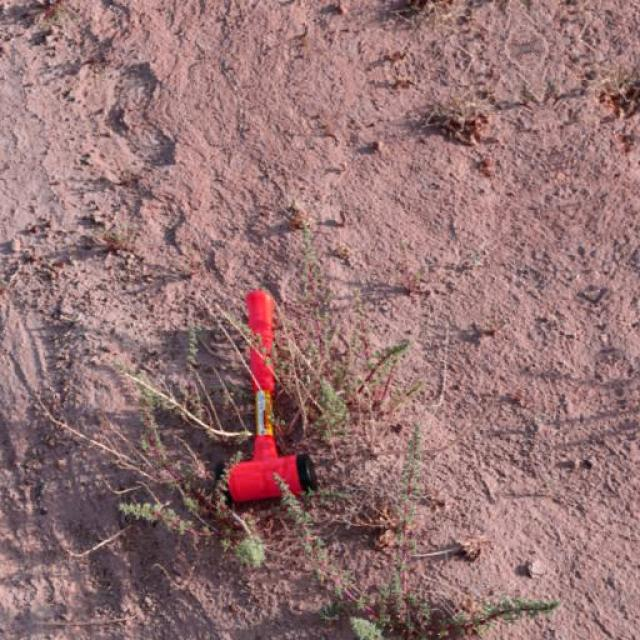mallet: (228, 287, 318, 503)
